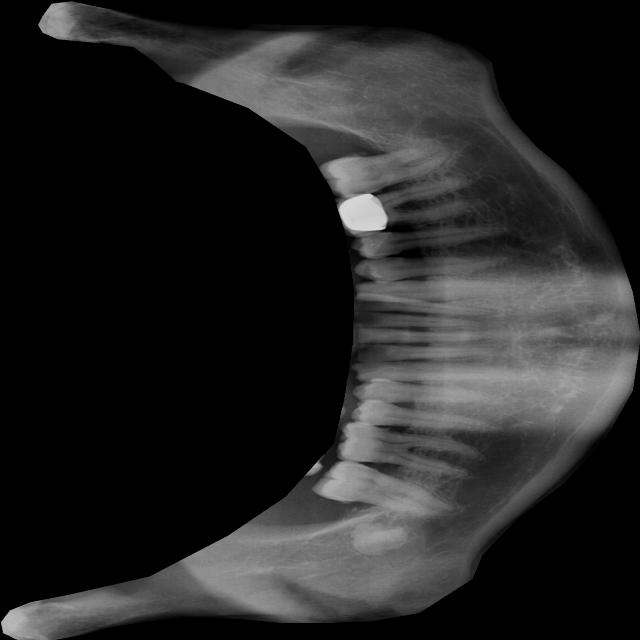mandibula: (1, 0, 640, 640)
